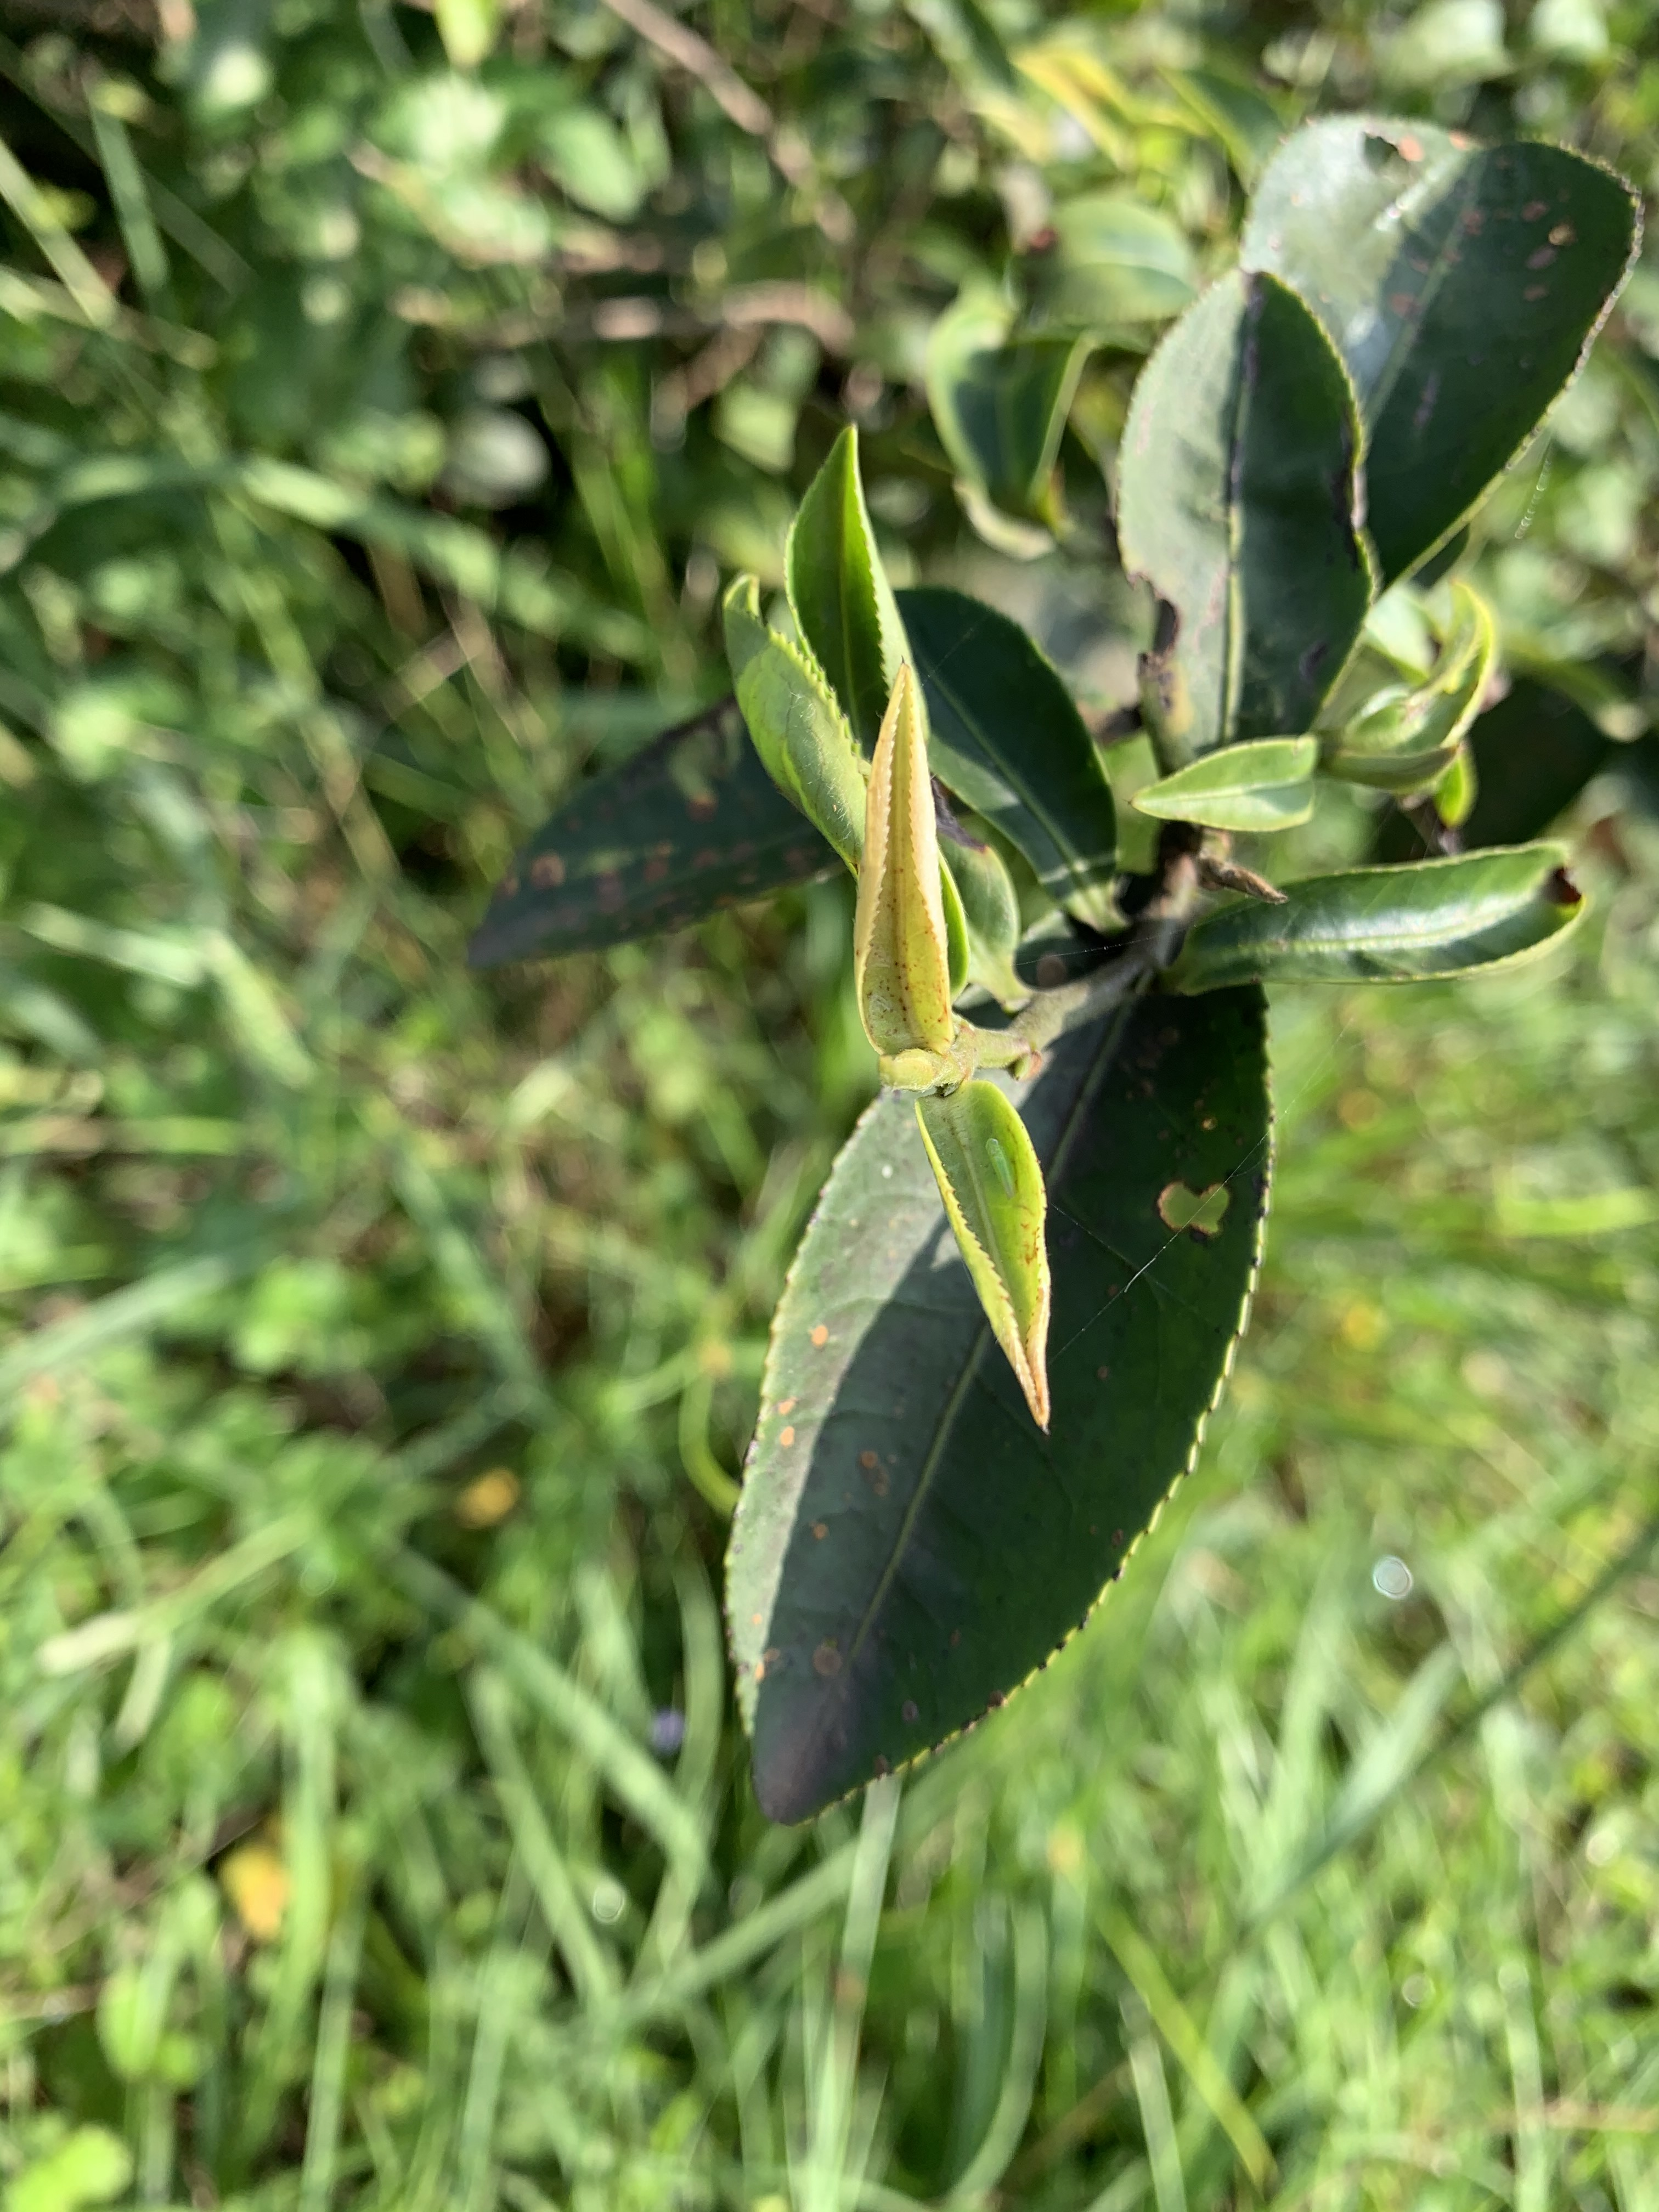algal: (720, 1172, 1188, 1789)
formosa: (843, 637, 965, 1087), (920, 1071, 1061, 1439)
